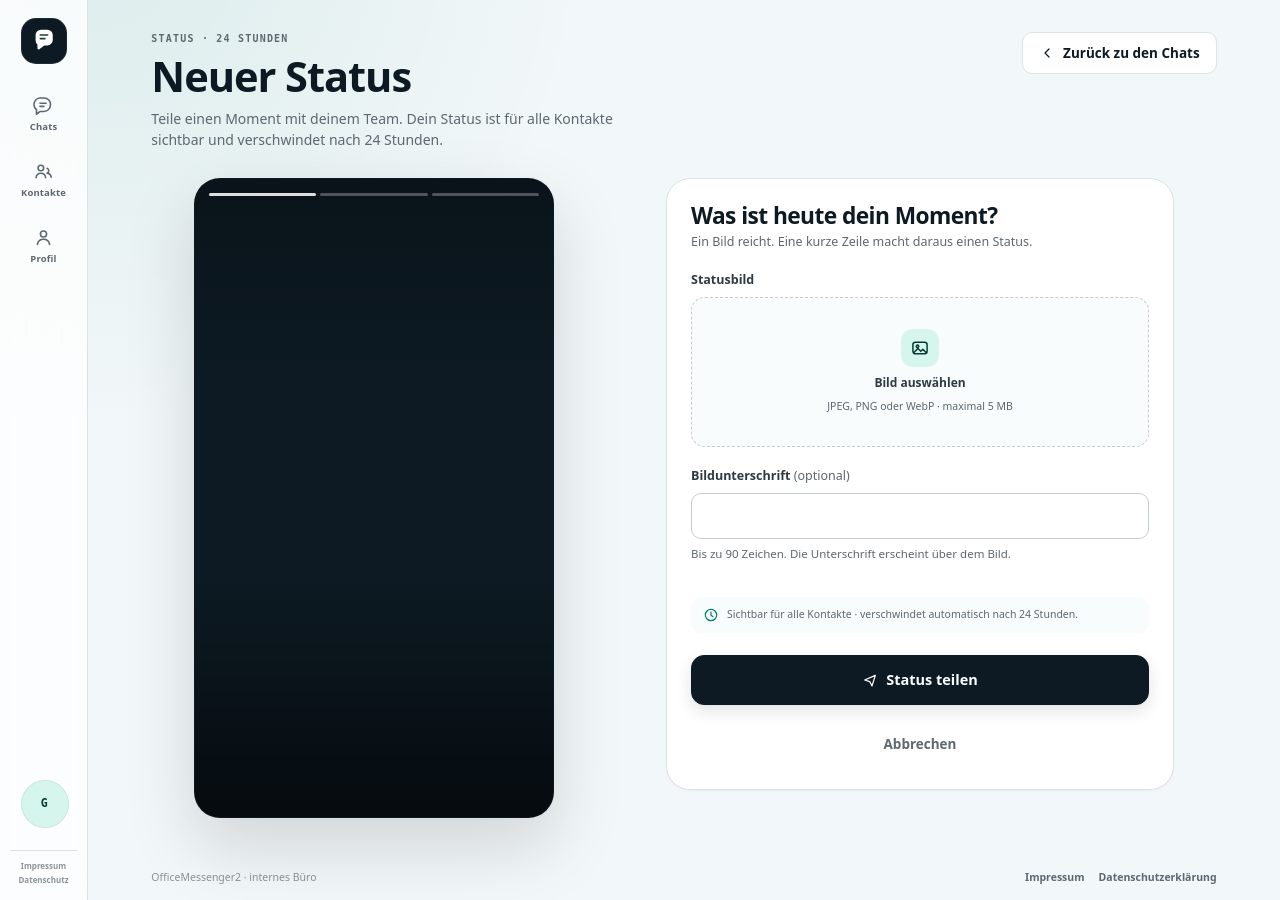
Test: StatusCreatePage › shows the missing-image message after submitting without a file
Click the button "Status teilen" at [920, 680], box [691,655,1149,705]
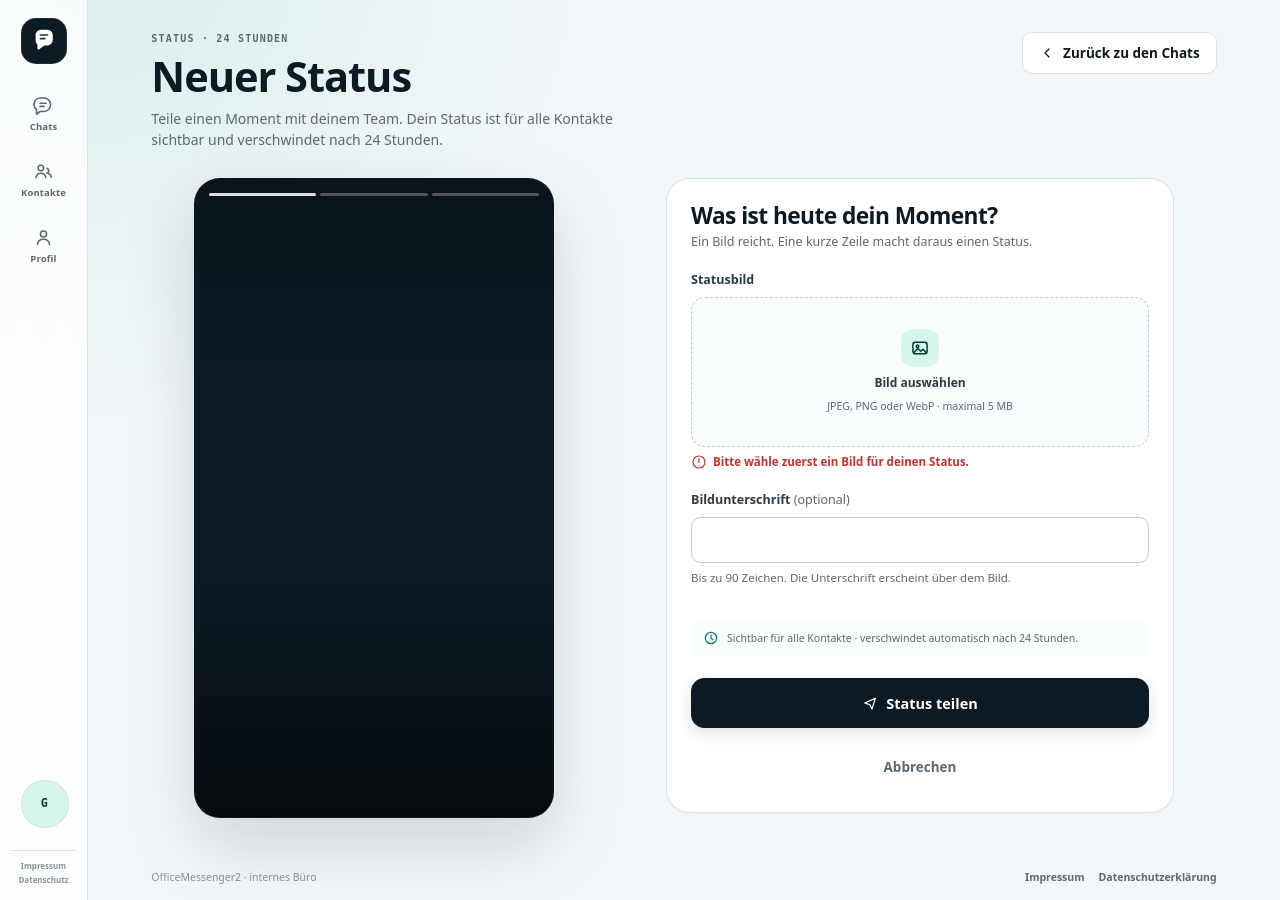
Expected: the text "Bitte wähle zuerst ein Bild für deinen Status." is shown, [713,454,969,471]
